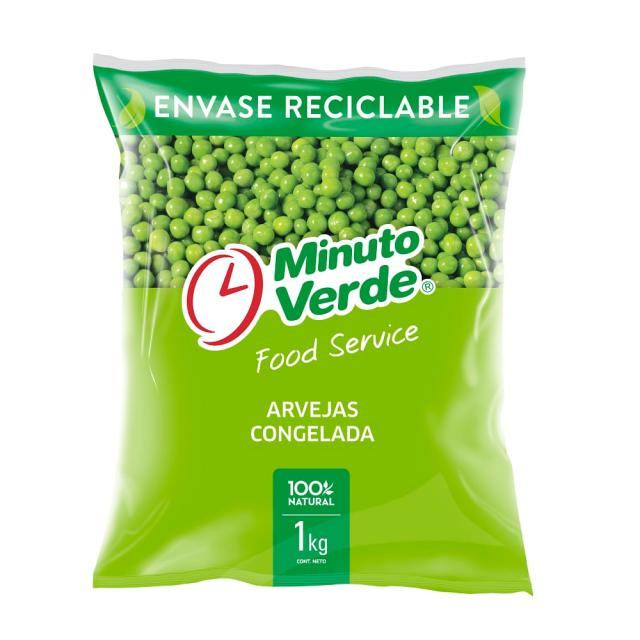arvejas: (117, 134, 511, 244)
